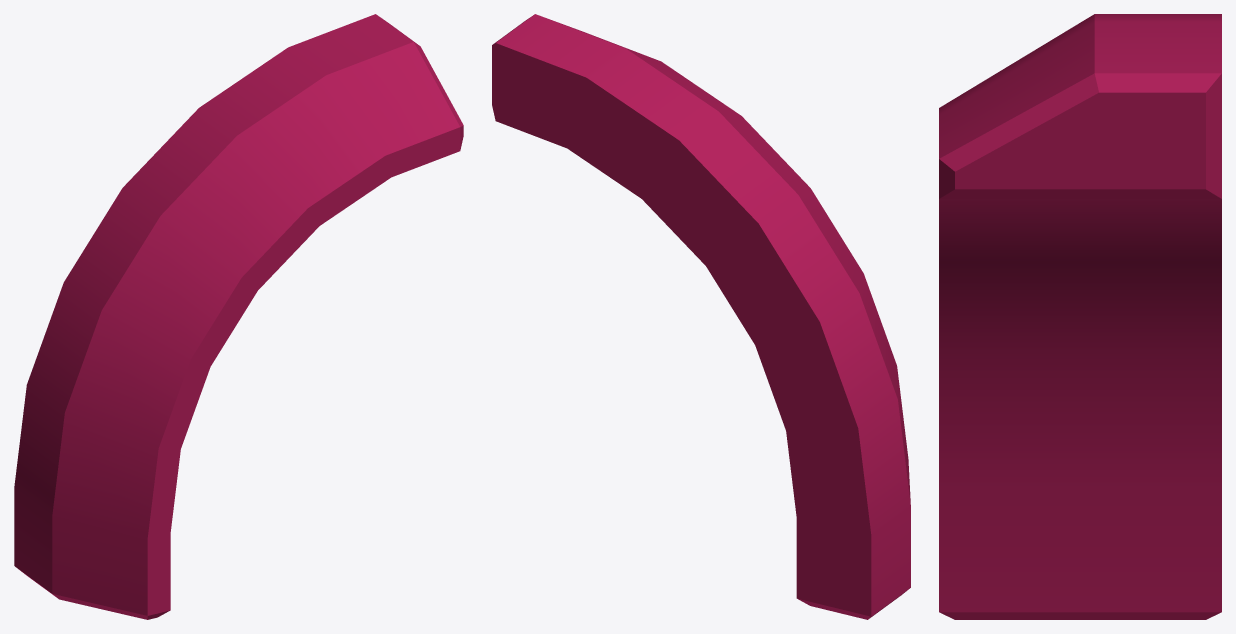
The model's file is Part_Car_wheel_round_mirror.FBX.
3 renders of one model, left to right at view 1: azimuth 30°, elevation 25°; view 2: azimuth 150°, elevation 25°; view 3: azimuth 270°, elevation 25°, orthographic. The views are drawn at different scales.
Parts seen in each view (by area): view 1: Part_Car_wheel_round_mirror; view 2: Part_Car_wheel_round_mirror; view 3: Part_Car_wheel_round_mirror.
Boxes of the visible parts, <box> form: Part_Car_wheel_round_mirror: <box>14,14,463,619</box>; Part_Car_wheel_round_mirror: <box>492,14,910,619</box>; Part_Car_wheel_round_mirror: <box>939,14,1221,619</box>.
Bounding box in the file's own units: 134 × 53.07 × 163.
